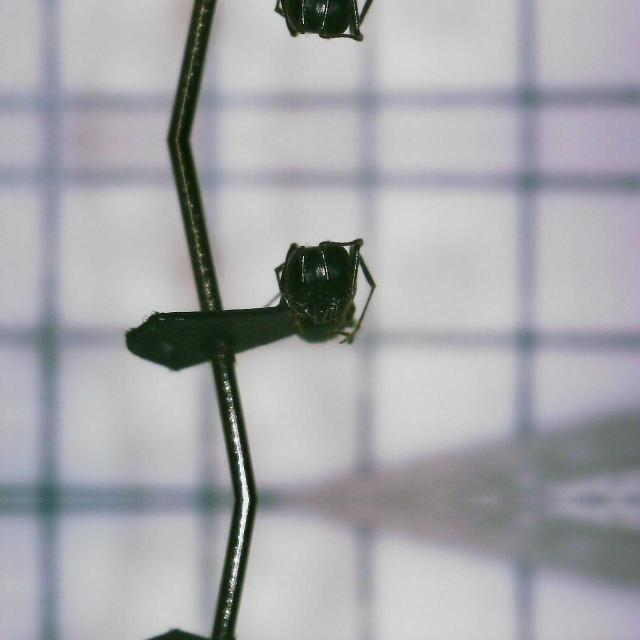Messor: (253, 221, 397, 351), (253, 0, 397, 59)
